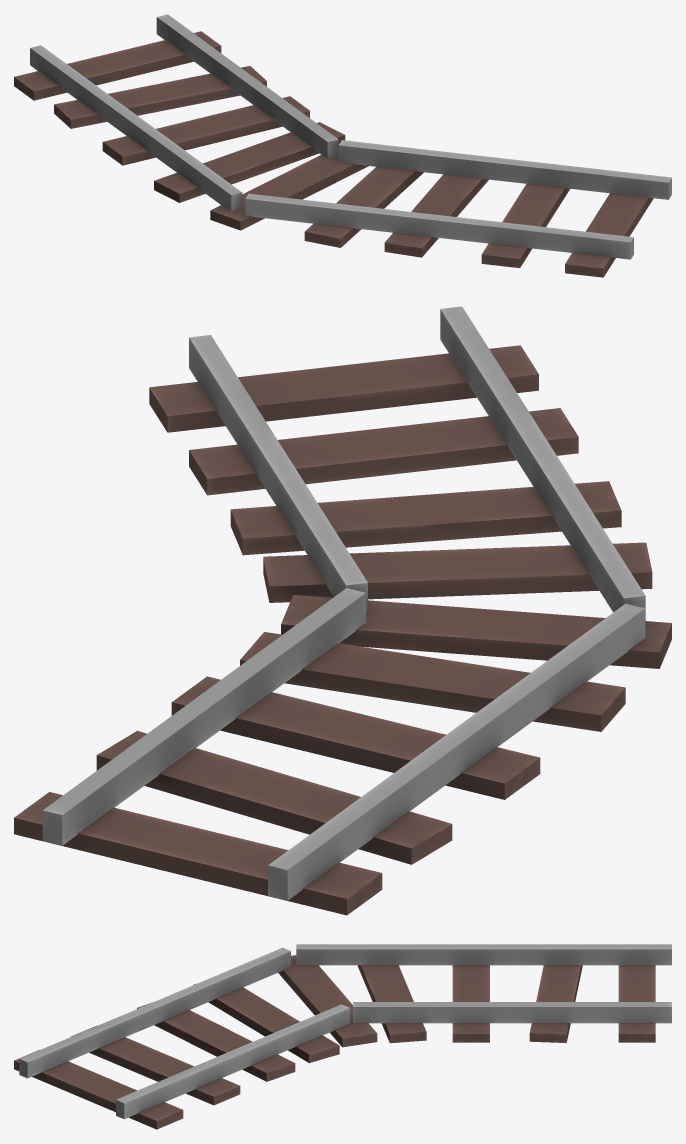
File: RailsObject_3.fbx
The picture shows the model from 3 angles, top to bottom: view 1: azimuth 30°, elevation 25°; view 2: azimuth 150°, elevation 25°; view 3: azimuth 270°, elevation 25°; orthographic projection. The views are drawn at different scales.
Visible parts, largest first — view 1: RailsObject_3; view 2: RailsObject_3; view 3: RailsObject_3.
Boxes of the visible parts, x1,y1,x2,y2 form: RailsObject_3: [14, 14, 671, 277]; RailsObject_3: [14, 306, 671, 915]; RailsObject_3: [14, 944, 671, 1129].
Bounding box in the file's own units: 85.53 × 5.56 × 137.
